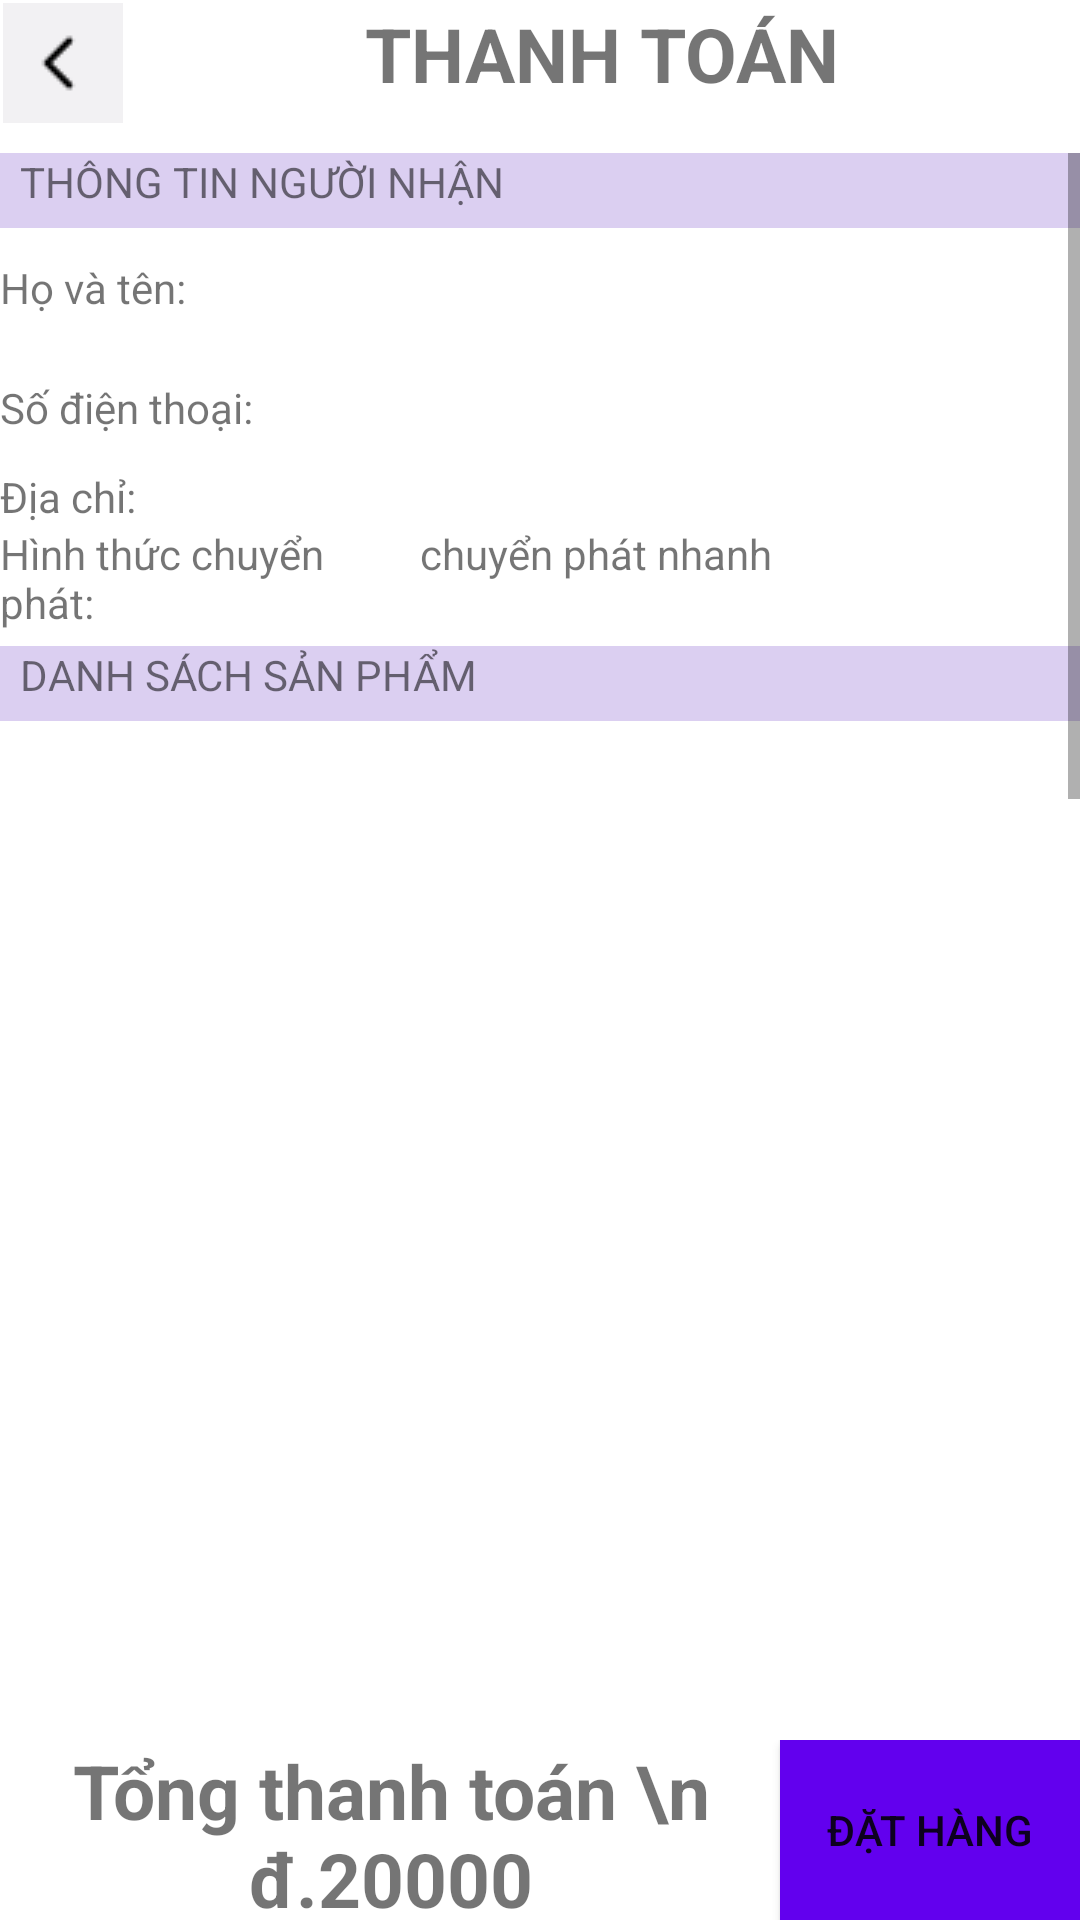

Locate icon controls on the screen. Image size 1080w x 1920h, boxes as (x1, y1, x2, y2).
back: (3, 3, 123, 123)
